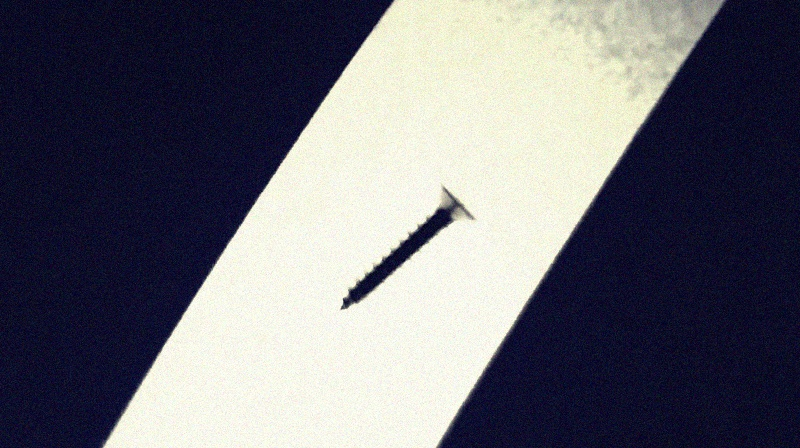S001: (338, 178, 482, 313)
